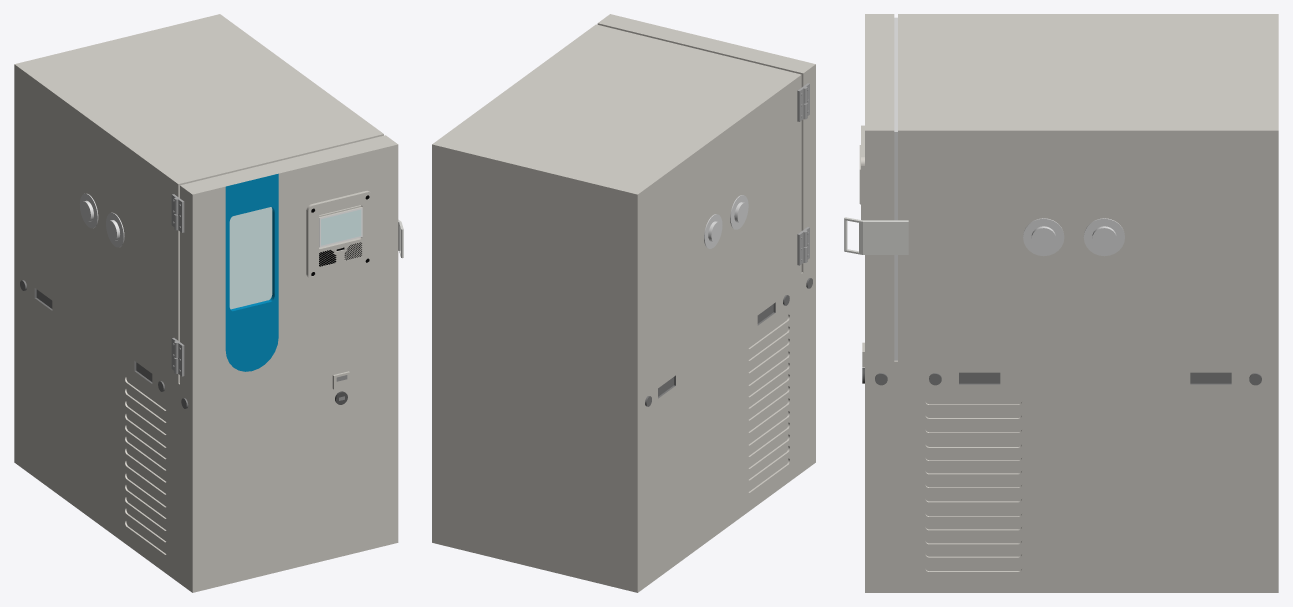
The model's file is CSZ_P-16.glb.
3 renders of one model, left to right at view 1: azimuth 30°, elevation 25°; view 2: azimuth 150°, elevation 25°; view 3: azimuth 270°, elevation 25°, orthographic. The views are drawn at different scales.
Size of the model in its own units: 1.04 by 1.85 by 1.58.
